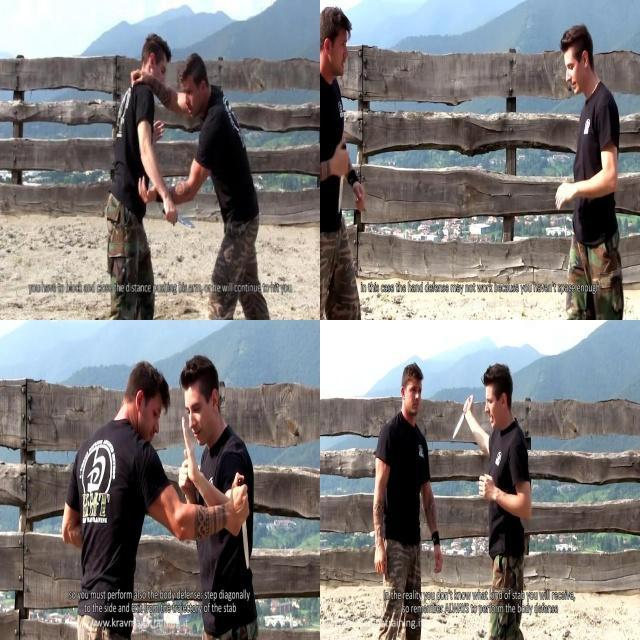-: (230, 469, 251, 568), (334, 139, 350, 213), (159, 202, 198, 232), (450, 392, 473, 440)
